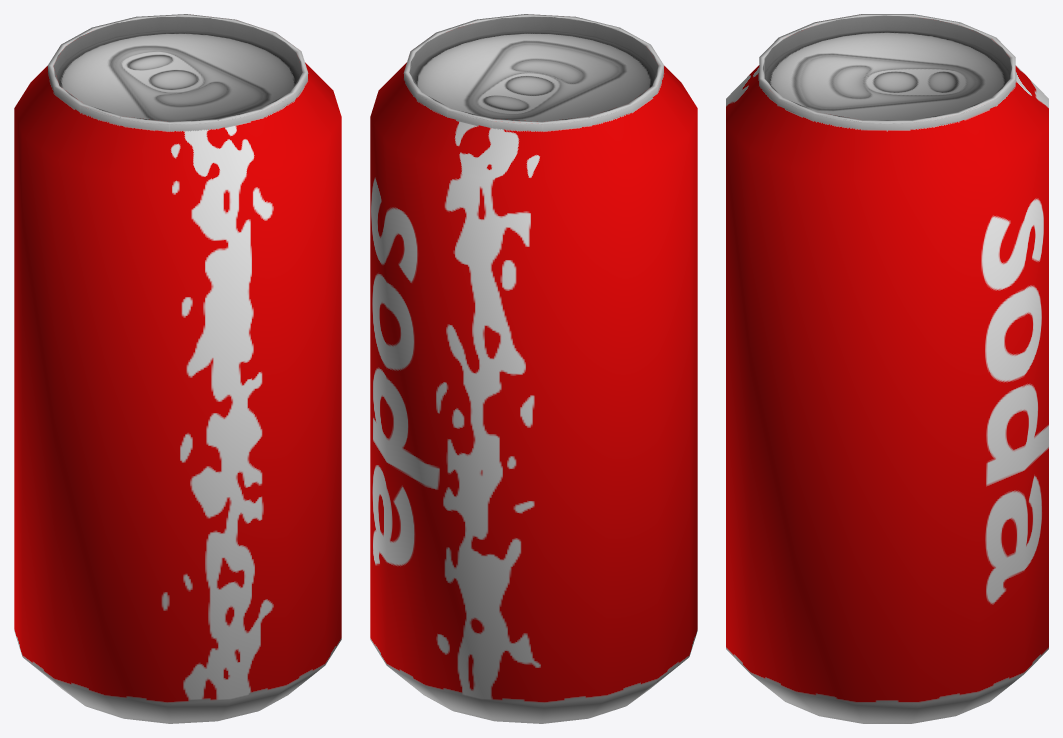
Rendered from sodared_001.glb.
The picture shows the model from 3 angles, left to right: view 1: azimuth 30°, elevation 25°; view 2: azimuth 150°, elevation 25°; view 3: azimuth 270°, elevation 25°; orthographic projection.
Visible parts, largest first — view 1: sodared.001; view 2: sodared.001; view 3: sodared.001.
Boxes of the visible parts, x1=… form: sodared.001: x1=14, y1=14, x2=341, y2=723; sodared.001: x1=370, y1=14, x2=697, y2=723; sodared.001: x1=726, y1=14, x2=1048, y2=723.
Size of the model in its own units: 0.5842 by 1.21 by 0.5842.
Materials: 1 (1 with a texture image).
